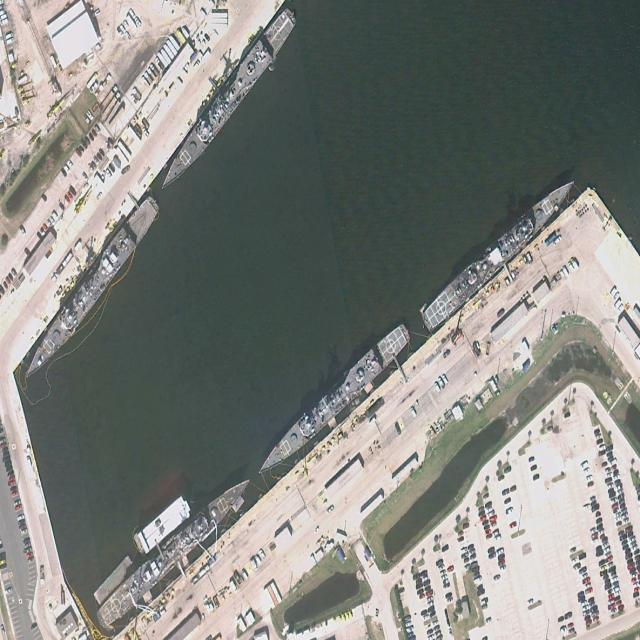Frigate: (19, 190, 163, 388), (155, 4, 299, 196), (93, 468, 257, 633), (419, 171, 580, 335), (252, 318, 412, 481)
